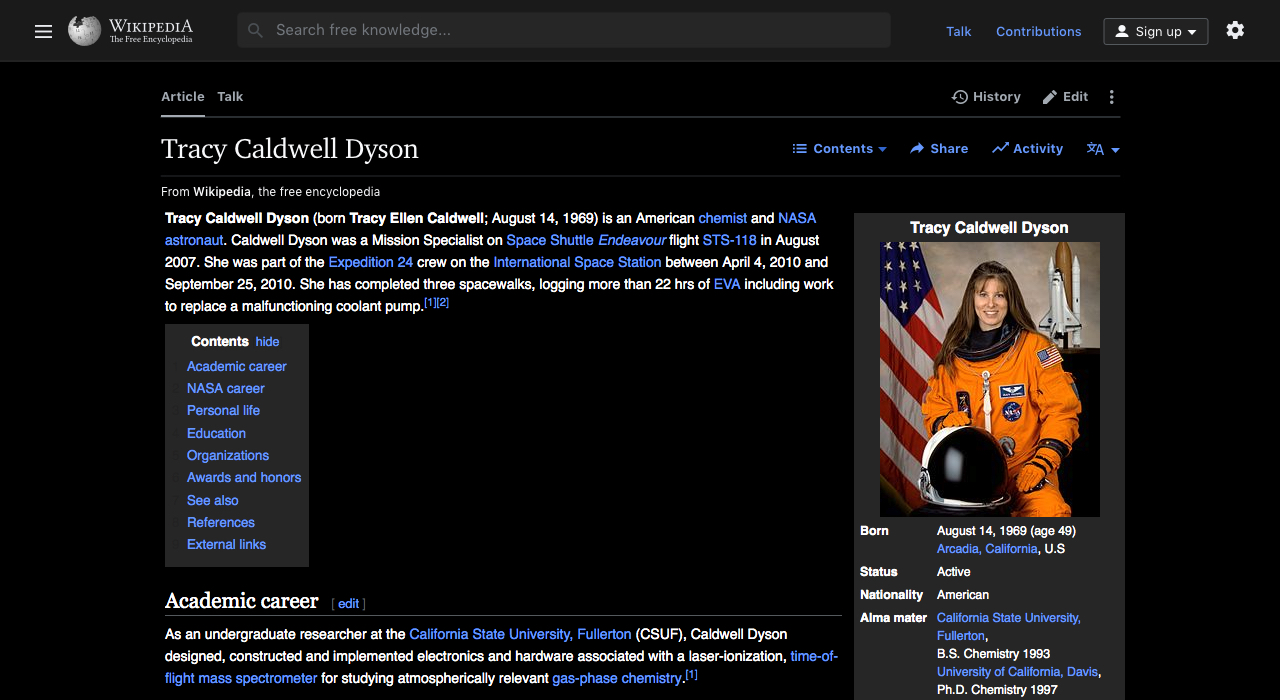California: (409, 625, 473, 642)
implemented electronics and hardware: (331, 645, 578, 668)
